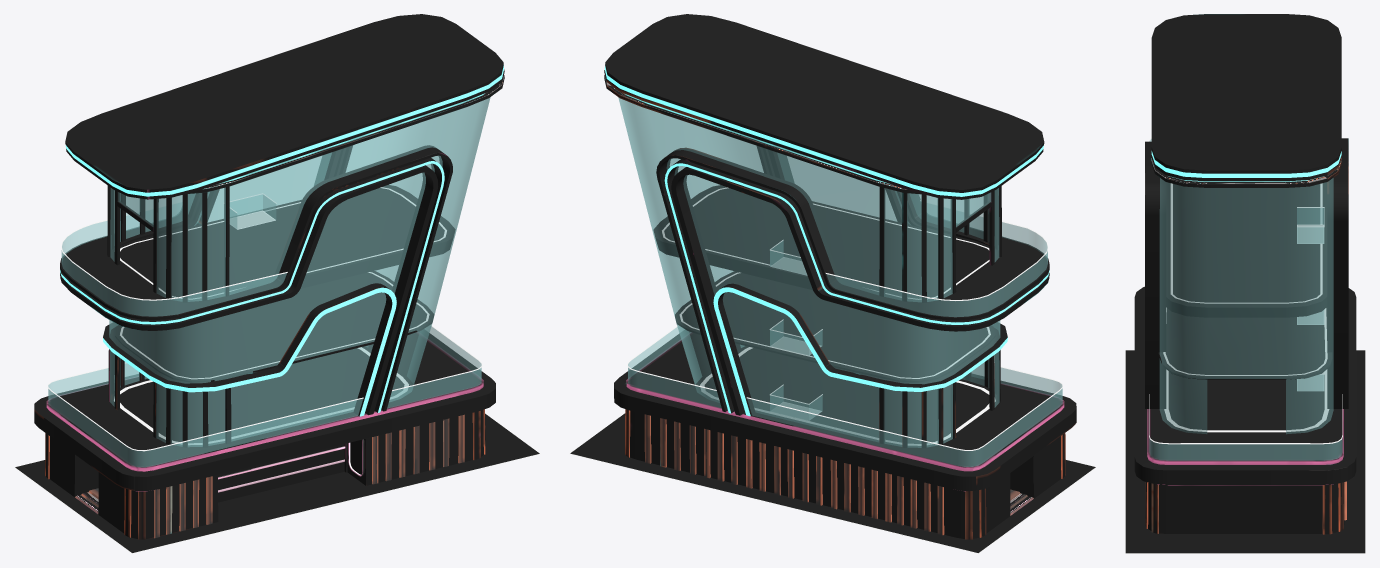
The model's file is Dhingia Builds 20 Size 2x1.glb.
3 views of the same model, side by side, from view 1: azimuth 30°, elevation 25°; view 2: azimuth 150°, elevation 25°; view 3: azimuth 270°, elevation 25° (orthographic).
Visible parts, largest first — view 1: Glass, Building, Building.004, Building.002, Top Floor, Middle Floor, Ground, Building.003, Building.001, Lights; view 2: Glass, Building, Building.004, Building.002, Top Floor, Middle Floor, Ground, Building.003, Building.001, Lights, Lift Cover; view 3: Glass, Building, Building.004, Top Floor, Building.002, Middle Floor, Ground, Lights, Lift Cover.
Part boxes in pixels (box(x1,y1,x2,y2)): Glass: box(48, 97, 490, 467); Building: box(34, 331, 495, 539); Building.004: box(65, 14, 504, 199); Building.002: box(60, 145, 452, 415); Top Floor: box(112, 185, 455, 300); Middle Floor: box(115, 271, 434, 382); Ground: box(14, 413, 540, 553); Building.003: box(103, 283, 396, 416); Building.001: box(107, 185, 229, 302); Lights: box(47, 187, 482, 451); Glass: box(618, 97, 1062, 466); Building: box(614, 332, 1076, 539); Building.004: box(604, 14, 1044, 199); Building.002: box(656, 146, 1049, 415); Top Floor: box(653, 185, 997, 300); Middle Floor: box(675, 271, 995, 382); Ground: box(569, 413, 1096, 553); Building.003: box(713, 283, 1007, 416); Building.001: box(879, 186, 1001, 302); Lights: box(627, 187, 1062, 450); Lift Cover: box(771, 257, 821, 413); Glass: box(1149, 139, 1342, 460); Building: box(1134, 286, 1356, 534); Building.004: box(1151, 14, 1341, 187); Top Floor: box(1166, 182, 1327, 317); Building.002: box(1145, 138, 1348, 408); Middle Floor: box(1158, 307, 1332, 379); Ground: box(1125, 350, 1365, 553); Lights: box(1148, 137, 1342, 444); Lift Cover: box(1297, 224, 1324, 390).
Size of what is drawn, in the model's own units: 32 by 27.98 by 16.
4 materials, 1 textured.
